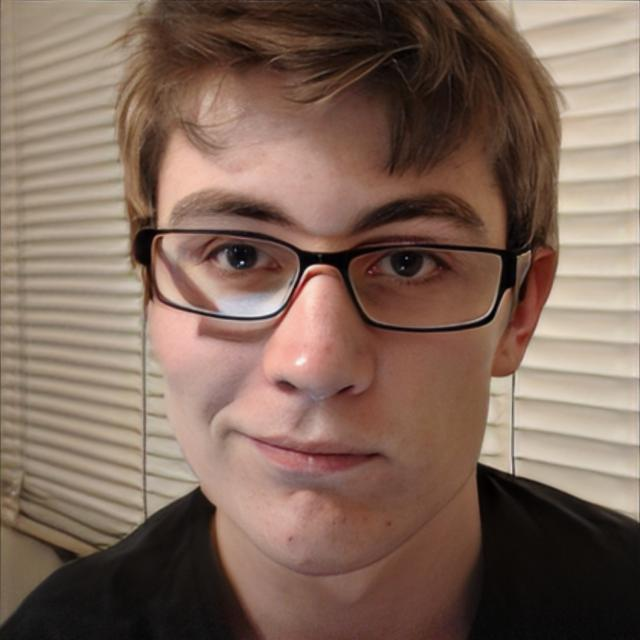content: (147, 75, 508, 576)
